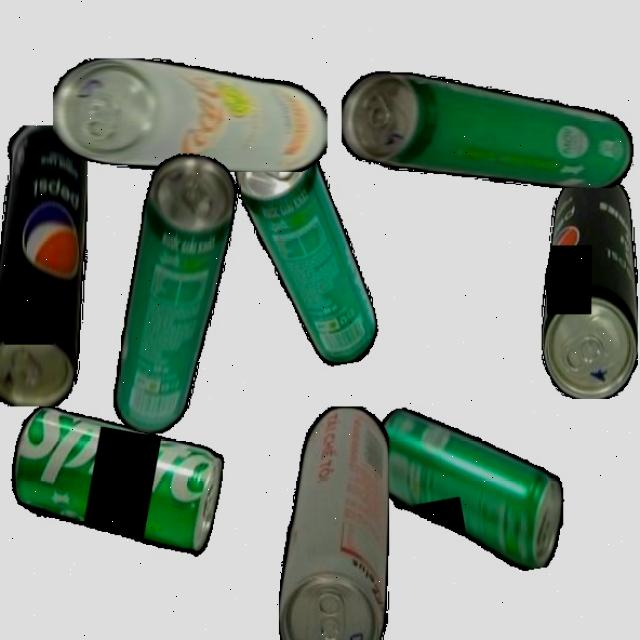debris: (0, 401, 229, 593), (367, 384, 575, 592), (105, 148, 244, 441), (228, 118, 383, 376), (342, 70, 634, 188), (53, 57, 328, 172), (278, 405, 389, 640), (0, 125, 88, 406), (540, 171, 638, 399)
